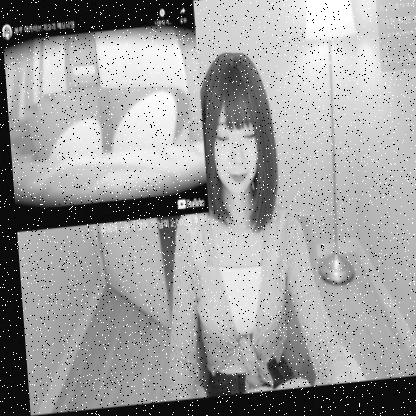donation: (1, 3, 206, 247)
streamer: (145, 47, 346, 405)
